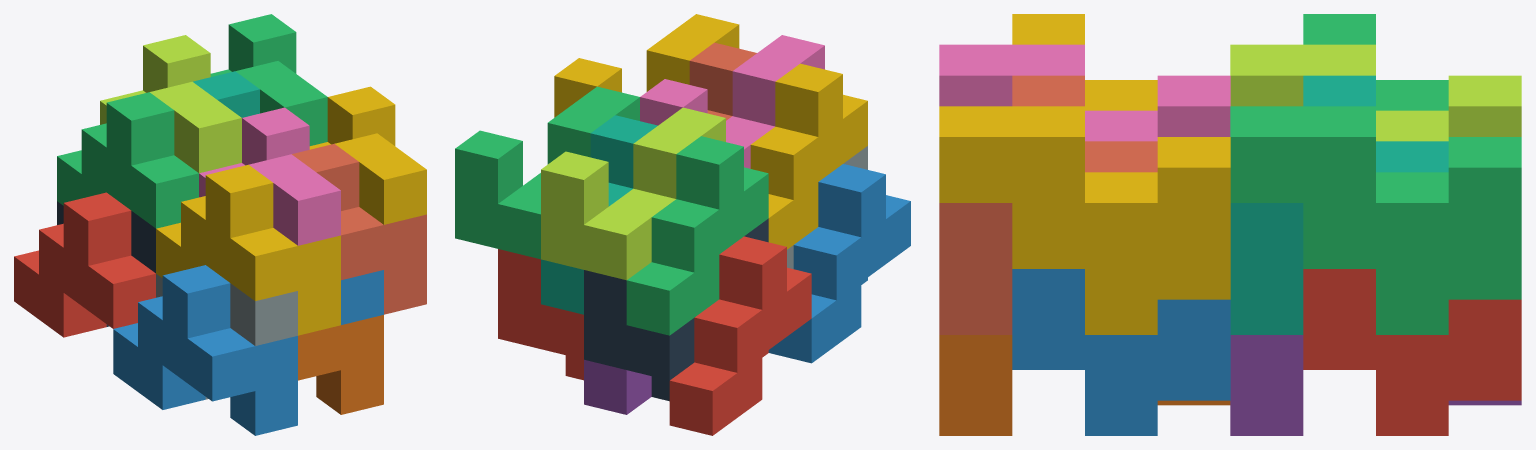
File: tiling.obj
3 renders of one model, left to right at view 1: azimuth 30°, elevation 25°; view 2: azimuth 150°, elevation 25°; view 3: azimuth 270°, elevation 25°, orthographic. The views are drawn at different scales.
Visible parts, largest first — view 1: copy_1_domain_2, copy_1_domain_4, copy_1_domain_1, copy_1_domain_3, copy_1_domain_8, copy_2_domain_4, copy_2_domain_3, copy_2_domain_8, copy_2_domain_7, copy_1_domain_6, copy_2_domain_2, copy_2_domain_6 (+2 smaller); view 2: copy_1_domain_1, copy_1_domain_3, copy_2_domain_3, copy_1_domain_2, copy_1_domain_4, copy_2_domain_7, copy_2_domain_1, copy_2_domain_4, copy_2_domain_5, copy_2_domain_8, copy_1_domain_7, copy_1_domain_5 (+2 smaller); view 3: copy_2_domain_7, copy_2_domain_8, copy_2_domain_5, copy_2_domain_6, copy_1_domain_7, copy_1_domain_8, copy_2_domain_4, copy_2_domain_3, copy_1_domain_5, copy_1_domain_6, copy_1_domain_3, copy_1_domain_4.
Boxes of the visible parts, x1,y1,x2,y2 form: copy_1_domain_2: (113, 265, 297, 435); copy_1_domain_4: (156, 164, 340, 335); copy_1_domain_1: (14, 192, 155, 337); copy_1_domain_3: (57, 92, 198, 228); copy_1_domain_8: (292, 143, 426, 314); copy_2_domain_4: (199, 107, 340, 245); copy_2_domain_3: (100, 35, 241, 173); copy_2_domain_8: (309, 86, 426, 224); copy_2_domain_7: (210, 14, 327, 145); copy_1_domain_6: (298, 315, 383, 414); copy_2_domain_2: (156, 274, 297, 399); copy_2_domain_6: (341, 270, 383, 324); copy_1_domain_1: (669, 236, 811, 435); copy_1_domain_3: (626, 136, 768, 335); copy_2_domain_3: (541, 107, 725, 280); copy_1_domain_2: (768, 164, 910, 363); copy_1_domain_4: (750, 63, 867, 249); copy_2_domain_7: (455, 86, 639, 259); copy_2_domain_1: (584, 218, 768, 401); copy_2_domain_4: (640, 35, 824, 168); copy_2_domain_5: (498, 249, 583, 380); copy_2_domain_8: (554, 14, 739, 117); copy_1_domain_7: (541, 115, 657, 314); copy_1_domain_5: (584, 359, 651, 414); copy_2_domain_7: (1230, 106, 1521, 334); copy_2_domain_8: (939, 106, 1230, 334); copy_2_domain_5: (1303, 269, 1521, 435); copy_2_domain_6: (1012, 269, 1230, 435); copy_1_domain_7: (1230, 75, 1448, 334); copy_1_domain_8: (939, 75, 1157, 334); copy_2_domain_4: (939, 44, 1230, 141); copy_2_domain_3: (1230, 44, 1521, 141); copy_1_domain_5: (1230, 335, 1521, 435); copy_1_domain_6: (939, 335, 1230, 435); copy_1_domain_3: (1303, 14, 1448, 110); copy_1_domain_4: (1012, 14, 1157, 110).
Bounding box in the file's own units: 6 × 5 × 8.
